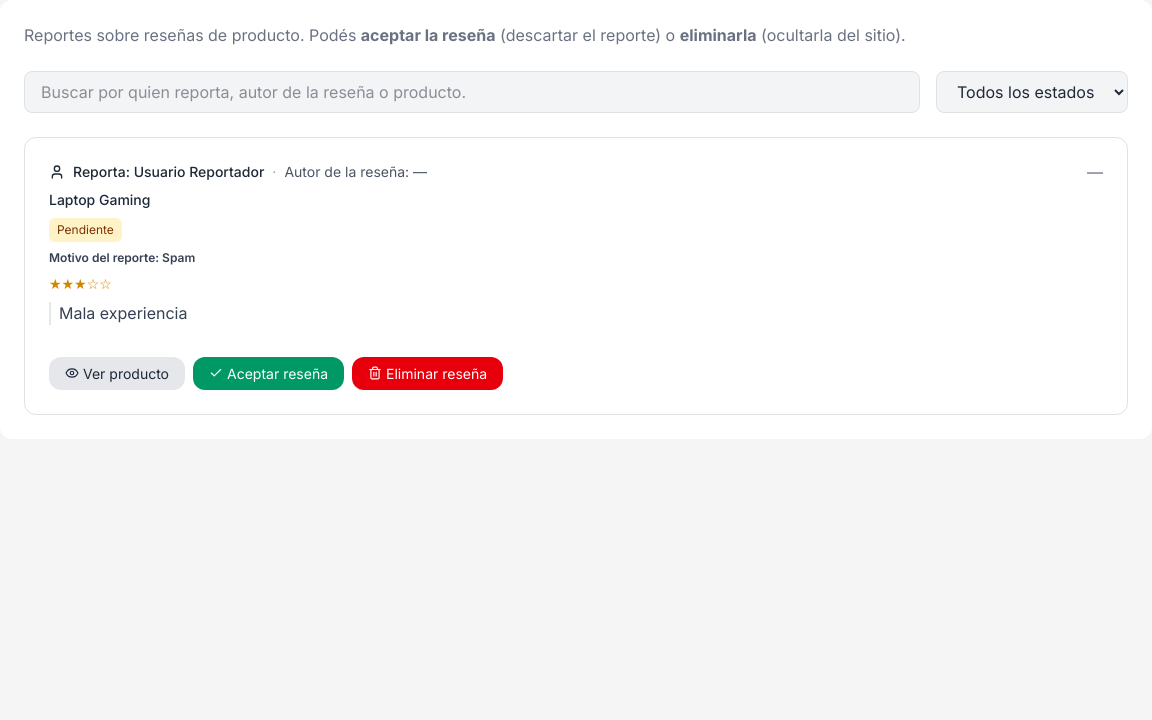
Test case: ReviewReportsPanel › abre modal de confirmación al hacer clic en Eliminar reseña
The image size is (1152, 720).
Expected: the text "Laptop Gaming" is shown, [49,191,150,208]
Click the button "Eliminar reseña".
click(428, 373)  # box [352,357,503,390]
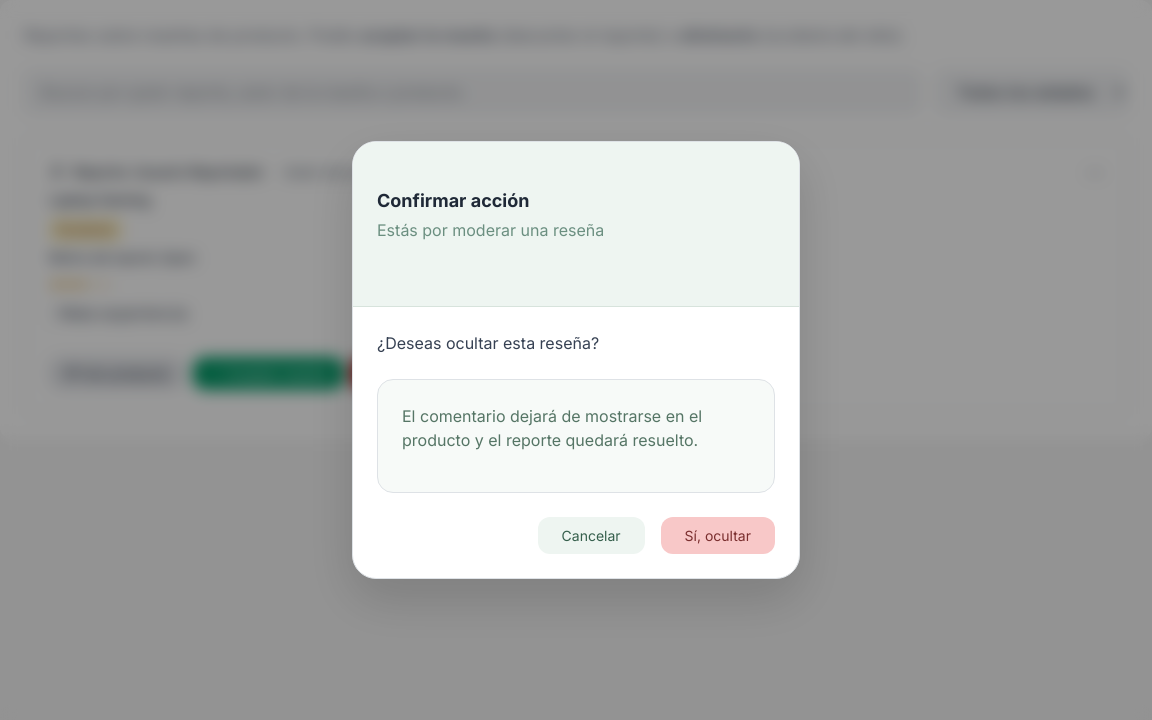
Expected: the heading "Confirmar acción" is shown, [377,190,529,211]
